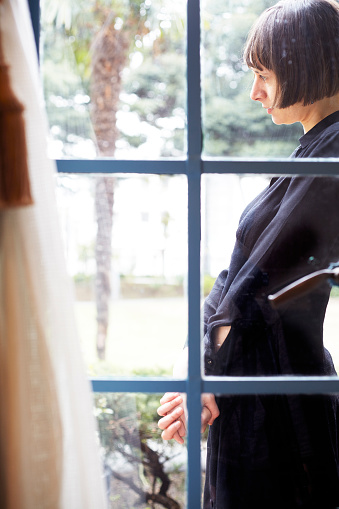em pe: (200, 3, 339, 369)
